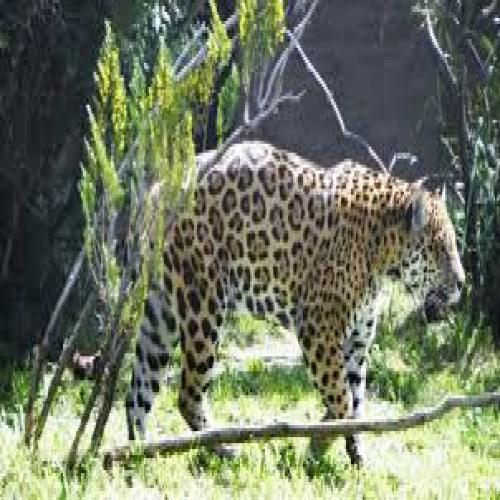jaguar_not-endangered: (125, 142, 464, 451)
